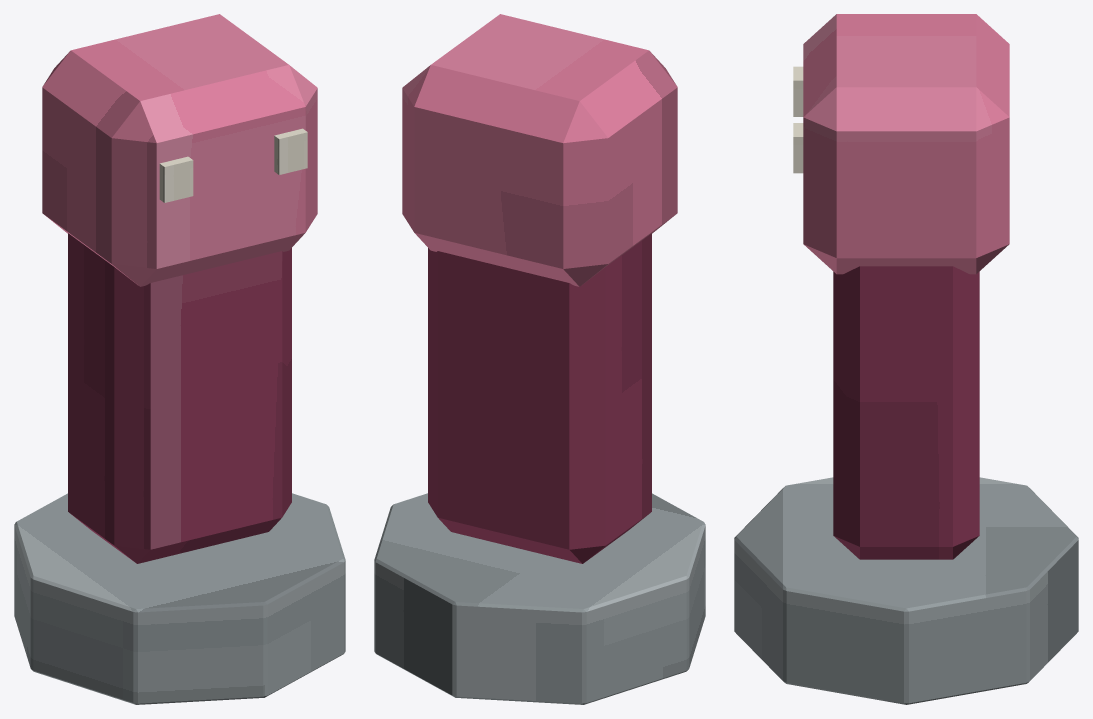
The model's file is mascot_statue.glb.
3 renders of one model, left to right at view 1: azimuth 30°, elevation 25°; view 2: azimuth 150°, elevation 25°; view 3: azimuth 270°, elevation 25°, orthographic.
Visible parts, largest first — view 1: Body, Head, Plinth, Eye_-0.2, Eye_0.2; view 2: Body, Head, Plinth; view 3: Plinth, Head, Body, Eye_0.2, Eye_-0.2.
Part boxes in pixels (<box>): Body: <box>68,233,291,563</box>; Head: <box>42,14,317,286</box>; Plinth: <box>14,493,345,704</box>; Eye_-0.2: <box>159,156,193,202</box>; Eye_0.2: <box>274,128,307,174</box>; Body: <box>428,233,651,563</box>; Head: <box>402,14,677,286</box>; Plinth: <box>374,493,705,704</box>; Plinth: <box>734,477,1078,704</box>; Head: <box>803,14,1009,274</box>; Body: <box>833,266,979,559</box>; Eye_0.2: <box>793,123,803,173</box>; Eye_-0.2: <box>793,66,803,116</box>.
Bounding box in the file's own units: 1.03 × 1.93 × 1.03.
1 material, 1 textured.
